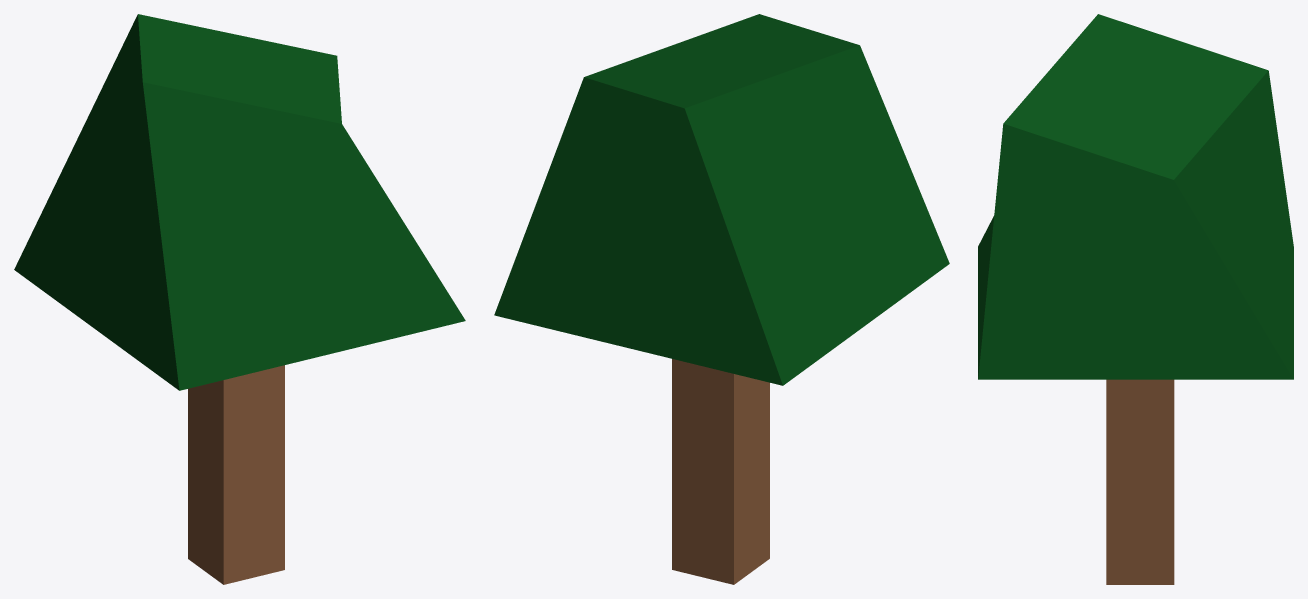
File: tree-summer-complete-19-042.glb
3 renders of one model, left to right at view 1: azimuth 30°, elevation 25°; view 2: azimuth 150°, elevation 25°; view 3: azimuth 270°, elevation 25°, orthographic. The views are drawn at different scales.
Parts seen in each view (by area): view 1: Tree 19_101; view 2: Tree 19_101; view 3: Tree 19_101.
Boxes of the visible parts, box(x1,y1,x2,y2) form: Tree 19_101: box(14, 14, 465, 584); Tree 19_101: box(494, 14, 949, 584); Tree 19_101: box(978, 14, 1293, 584).
Size of the model in its own units: 0.6335 by 1.11 by 0.6335.
